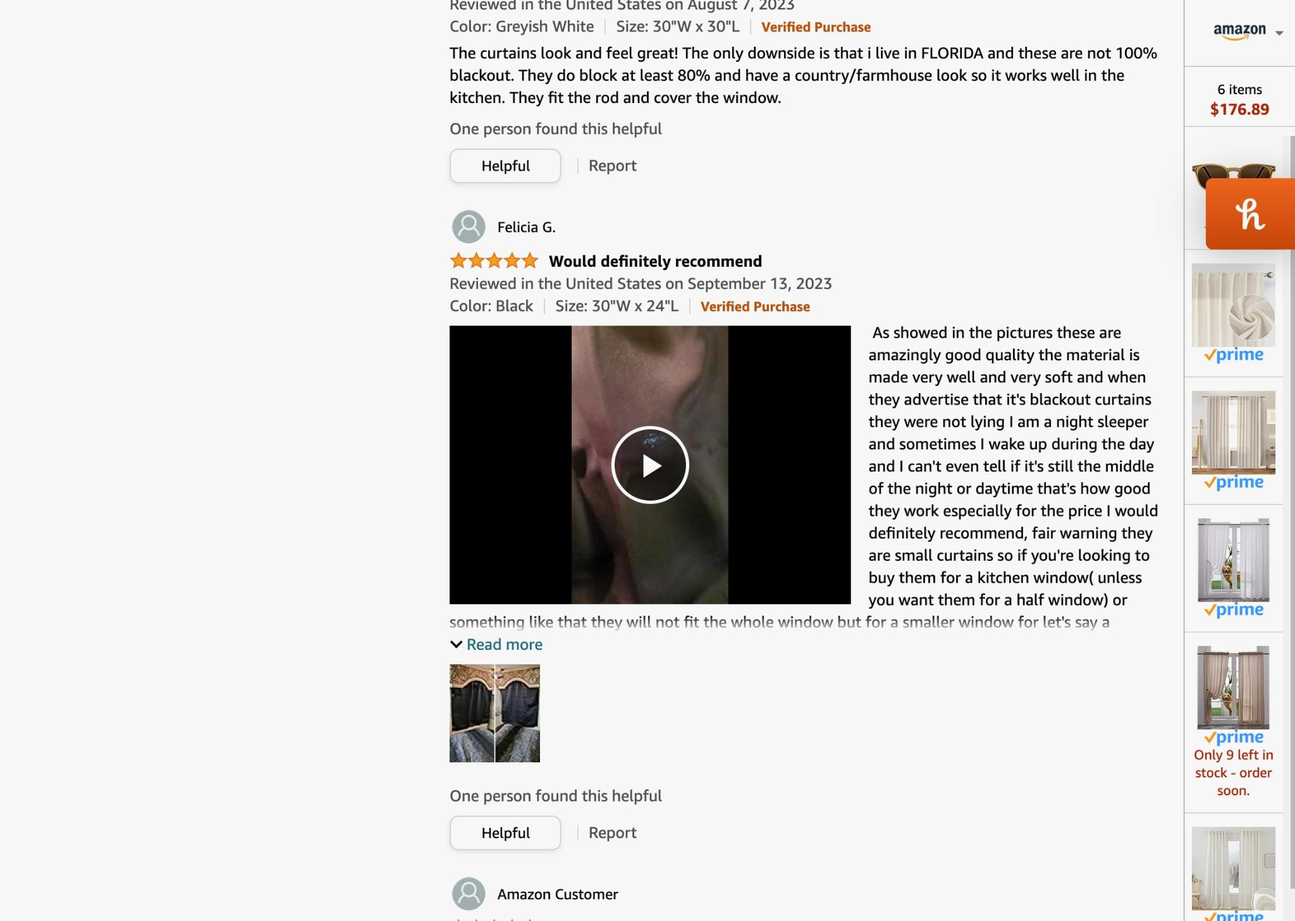webelement: (448, 321, 1162, 655), (448, 42, 1156, 106), (448, 117, 1162, 139), (448, 784, 1162, 806), (1184, 0, 1294, 97), (448, 273, 832, 292), (1191, 518, 1275, 602), (1191, 645, 1275, 729), (1191, 135, 1275, 218), (1191, 263, 1275, 346), (1191, 390, 1275, 473), (1191, 827, 1275, 910), (448, 875, 617, 912), (610, 426, 688, 503), (448, 16, 738, 34), (448, 664, 493, 762), (494, 664, 538, 762), (448, 296, 678, 314), (548, 251, 761, 270), (1193, 746, 1272, 797), (448, 208, 554, 245), (448, 119, 661, 137), (448, 786, 661, 804), (450, 149, 558, 182), (450, 816, 558, 849), (496, 885, 616, 903), (448, 634, 542, 653), (760, 18, 869, 34), (448, 251, 537, 270), (700, 298, 809, 313), (448, 208, 485, 245), (448, 875, 485, 912), (1191, 262, 1275, 278), (1191, 134, 1275, 149), (1191, 389, 1275, 404), (1191, 517, 1275, 532), (1191, 644, 1275, 659), (1191, 826, 1275, 841), (496, 217, 554, 235), (547, 918, 885, 921), (1204, 473, 1262, 490), (1204, 219, 1262, 235), (1204, 346, 1262, 362), (1204, 601, 1262, 617), (1204, 729, 1262, 745), (588, 155, 635, 174), (1209, 102, 1268, 117), (448, 665, 494, 684), (494, 665, 539, 684), (588, 823, 635, 841), (1214, 25, 1265, 40), (1216, 80, 1260, 95), (1203, 910, 1262, 921), (448, 918, 537, 921)
